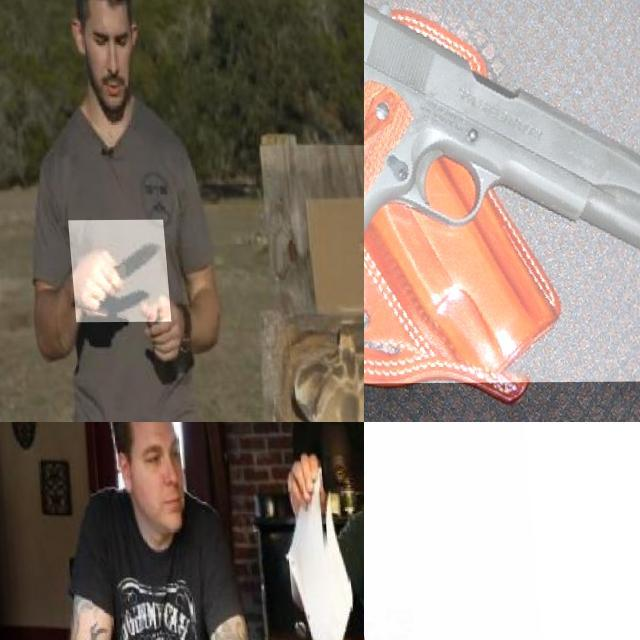-: (519, 422, 640, 640), (62, 220, 164, 323)
gun-knife-thesis - v11 Yolov5 augmented: (364, 0, 640, 384)
